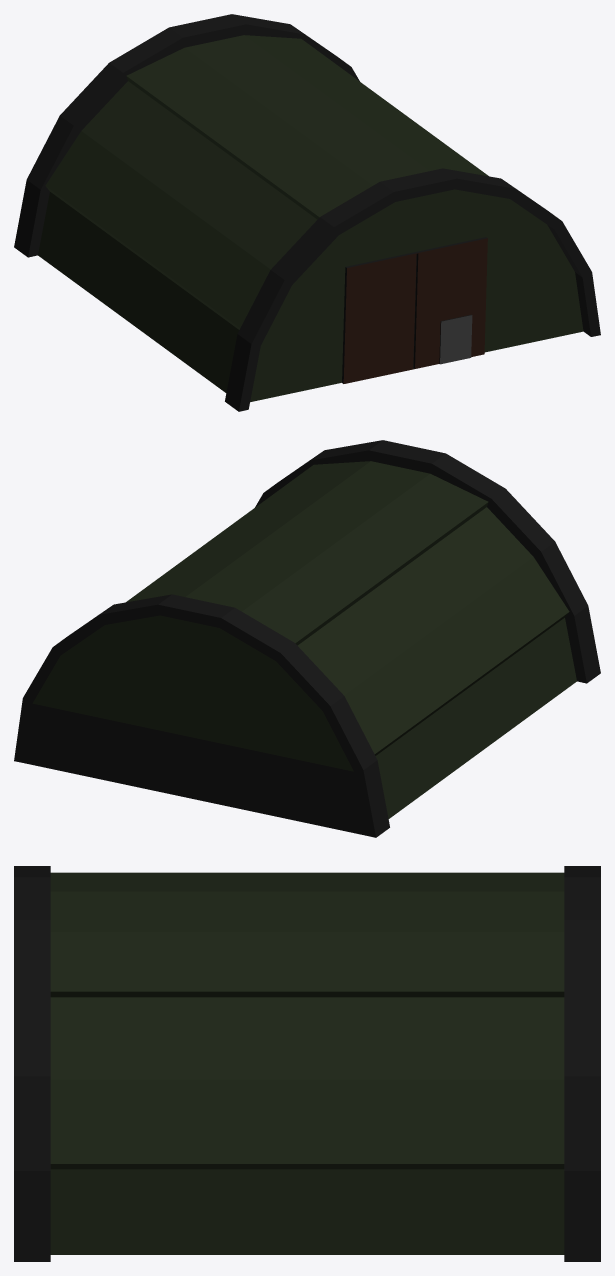
The model's file is Bunker_Soldados_Verde.FBX.
The picture shows the model from 3 angles, top to bottom: view 1: azimuth 30°, elevation 25°; view 2: azimuth 150°, elevation 25°; view 3: azimuth 270°, elevation 25°; orthographic projection. The views are drawn at different scales.
Parts seen in each view (by area): view 1: Bunker_Vehiculos001; view 2: Bunker_Vehiculos001; view 3: Bunker_Vehiculos001.
Boxes of the visible parts, bbox=[...] form: Bunker_Vehiculos001: bbox=[14, 14, 600, 411]; Bunker_Vehiculos001: bbox=[14, 440, 600, 837]; Bunker_Vehiculos001: bbox=[14, 866, 600, 1261].
Size of the model in its own units: 2106 by 1076 by 2265.
